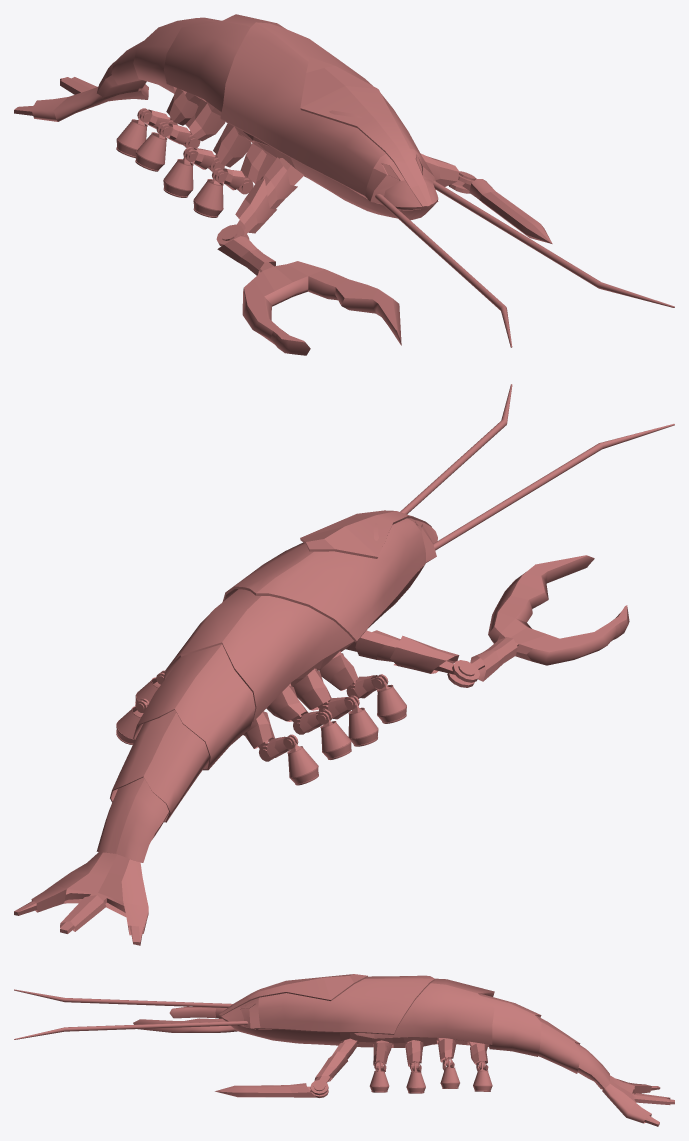
Rendered from MDL_Character_ShrimpUVComplete.fbx.
The picture shows the model from 3 angles, top to bottom: view 1: azimuth 30°, elevation 25°; view 2: azimuth 150°, elevation 25°; view 3: azimuth 270°, elevation 25°; orthographic projection. The views are drawn at different scales.
Visible parts, largest first — view 1: polySurface20; view 2: polySurface20; view 3: polySurface20.
Boxes of the visible parts, box(x1,y1,x2,y2) form: polySurface20: box(14, 14, 674, 355); polySurface20: box(14, 384, 674, 945); polySurface20: box(14, 974, 674, 1126).
Bounding box in the file's own units: 125 × 81.64 × 371.
